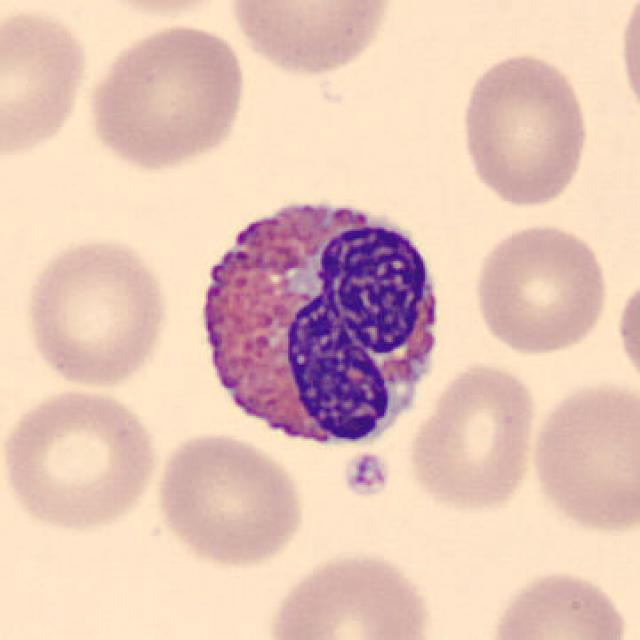Eosinophil: (179, 182, 457, 464)
Platelets: (341, 450, 391, 500)
RBC: (84, 18, 250, 172), (20, 231, 174, 391), (0, 384, 162, 536), (151, 426, 309, 570), (455, 48, 594, 210), (404, 360, 542, 514), (469, 219, 612, 358), (524, 374, 638, 538), (263, 546, 437, 640), (0, 1, 92, 165), (222, 0, 396, 79), (483, 564, 633, 640), (612, 268, 638, 397), (78, 0, 243, 19), (615, 0, 640, 125)
